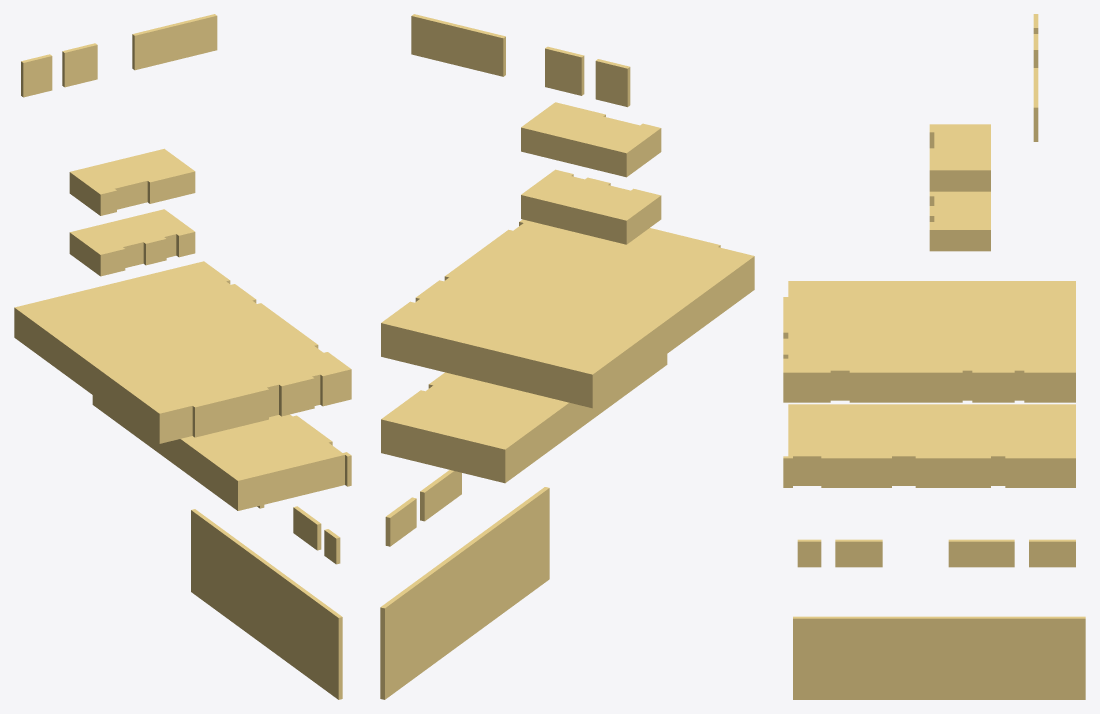
File: SideBuildings1-2.obj
3 renders of one model, left to right at view 1: azimuth 30°, elevation 25°; view 2: azimuth 150°, elevation 25°; view 3: azimuth 270°, elevation 25°, orthographic. The views are drawn at different scales.
Size of the model in its own units: 4.9 by 13.8 by 6.4.
Materials: 1 (1 with a texture image).
